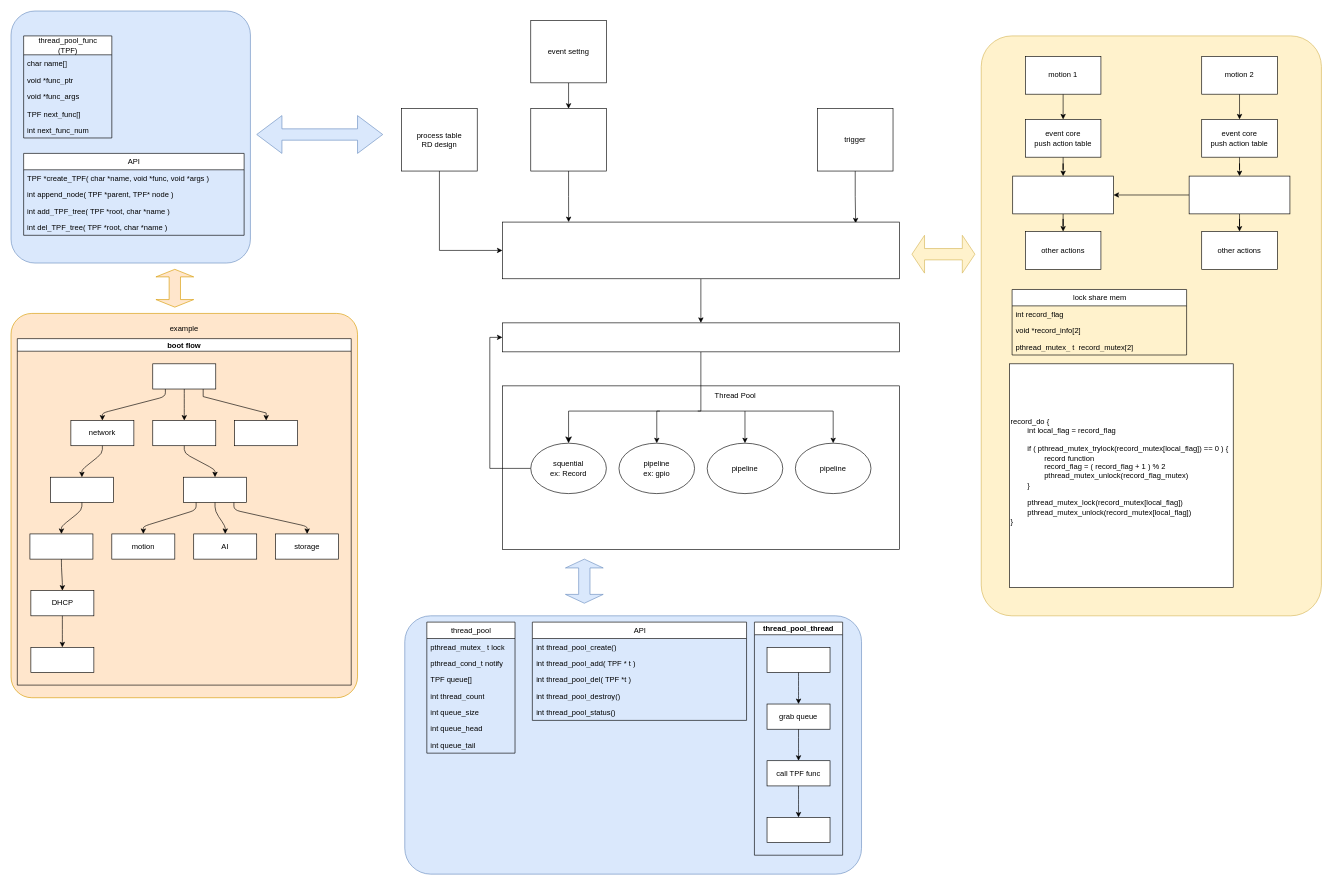
Image size: 1332x885. Some labels were removed from this diagram. The centre of each missing label's shape, as x and y in pixels:
Action: point 700,337
encoder: point 215,489
ethernet: point 81,489
Event Core Check mask and call action action table: point 700,250
init time mask and action table: point 568,139
led: point 266,433
main: point 184,376
NAT: point 62,660
record in thread pool lock record_mutex: point 1063,194
record in thread pool wait record_mutex unlock: point 1239,194
thread_pook_add all of next TPF: point 798,830
video: point 184,433
wait queue: point 798,660
wifi: point 61,546
